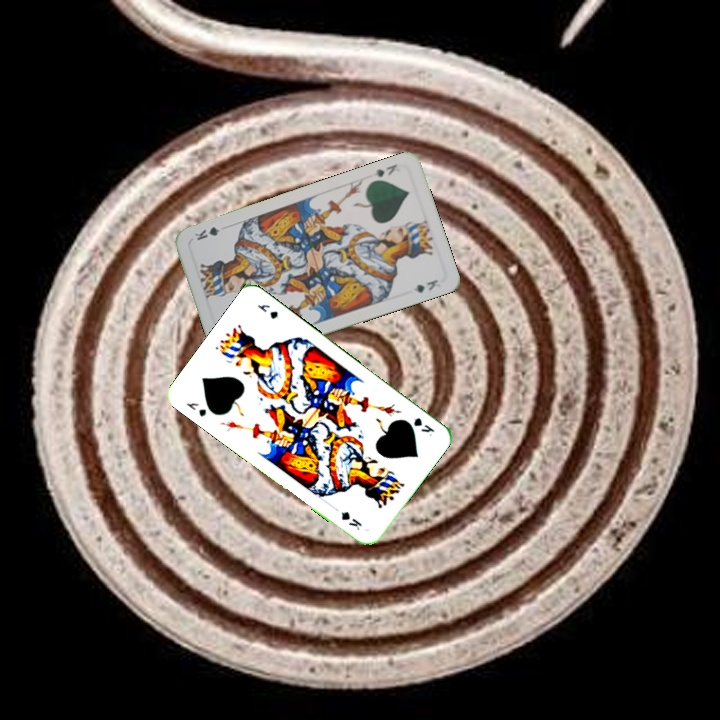GK: (409, 413, 437, 435), (371, 160, 400, 180), (182, 398, 209, 419)
